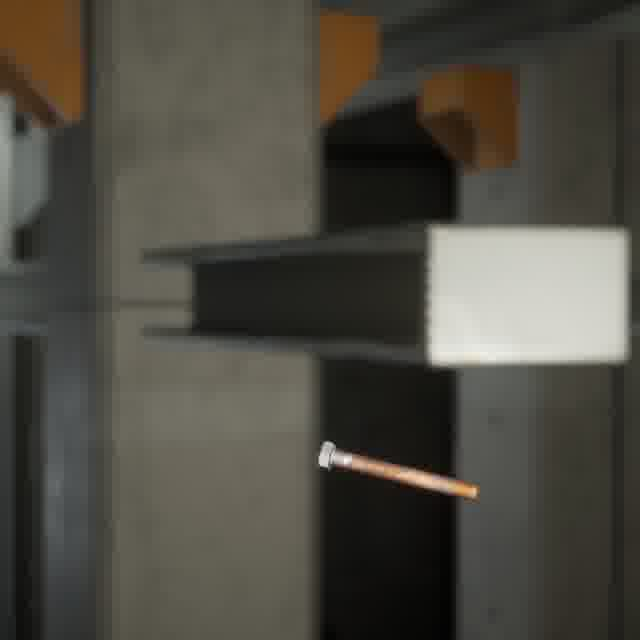bolt: (313, 436, 482, 504)
